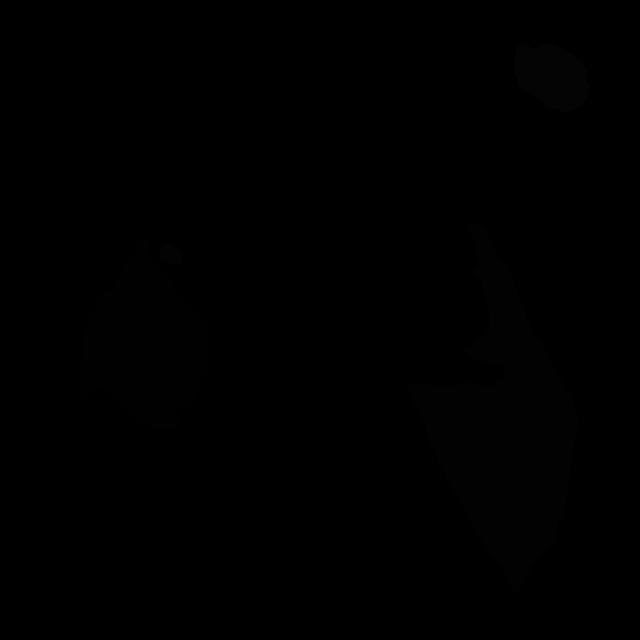cardboard: (407, 222, 579, 592)
metal: (160, 243, 184, 265)
rigid_plastic: (81, 234, 210, 429)
soft_plastic: (513, 43, 588, 113)
